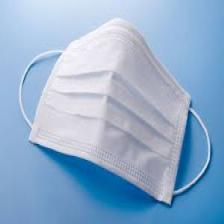mask: (32, 16, 190, 212)
